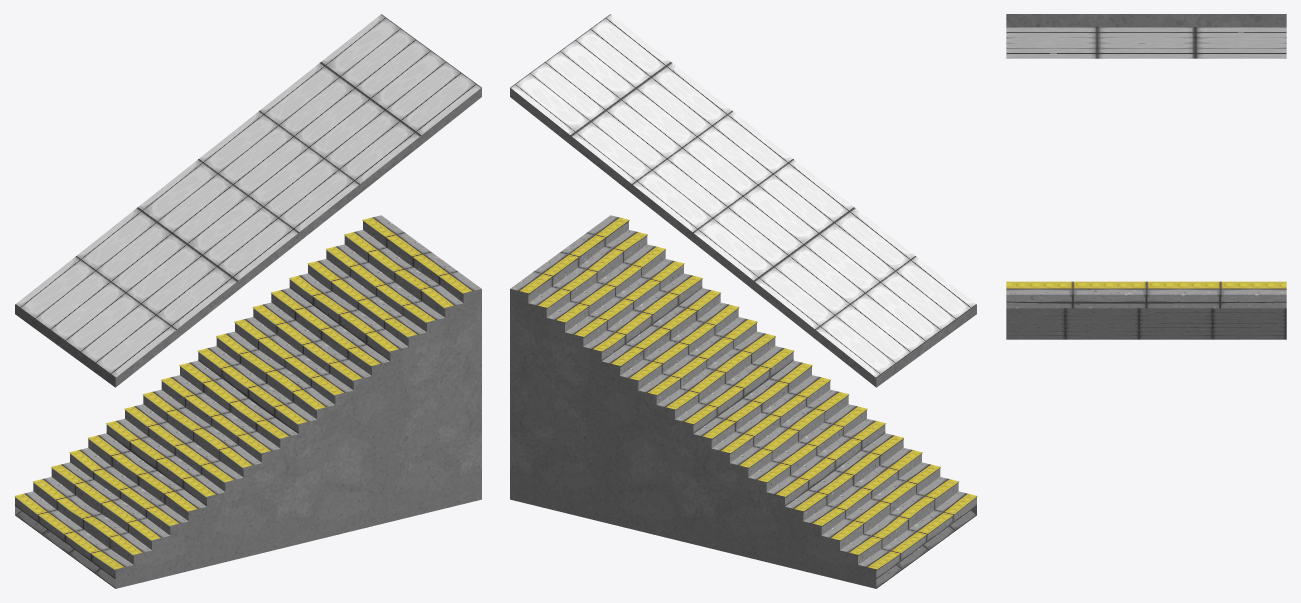
File: SM_Inner_Steps.fbx
3 views of the same model, side by side, from view 1: azimuth 30°, elevation 25°; view 2: azimuth 150°, elevation 25°; view 3: azimuth 270°, elevation 25° (orthographic). The views are drawn at different scales.
Parts seen in each view (by area): view 1: SM_Inner_Steps, SM_Inner_Steps_Floor, SM_Inner_Steps_Wall_R; view 2: SM_Inner_Steps, SM_Inner_Steps_Floor, SM_Inner_Steps_Wall_L; view 3: SM_Inner_Steps, SM_Inner_Steps_Floor.
Part boxes in pixels (box(x1,y1,x2,y2)): SM_Inner_Steps: box(14, 215, 481, 588); SM_Inner_Steps_Floor: box(15, 14, 481, 387); SM_Inner_Steps_Wall_R: box(116, 298, 481, 588); SM_Inner_Steps: box(510, 215, 977, 588); SM_Inner_Steps_Floor: box(510, 14, 976, 387); SM_Inner_Steps_Wall_L: box(510, 298, 875, 588); SM_Inner_Steps: box(1006, 281, 1286, 339); SM_Inner_Steps_Floor: box(1006, 14, 1286, 58).
Bounding box in the file's own units: 802 × 860 × 380.
